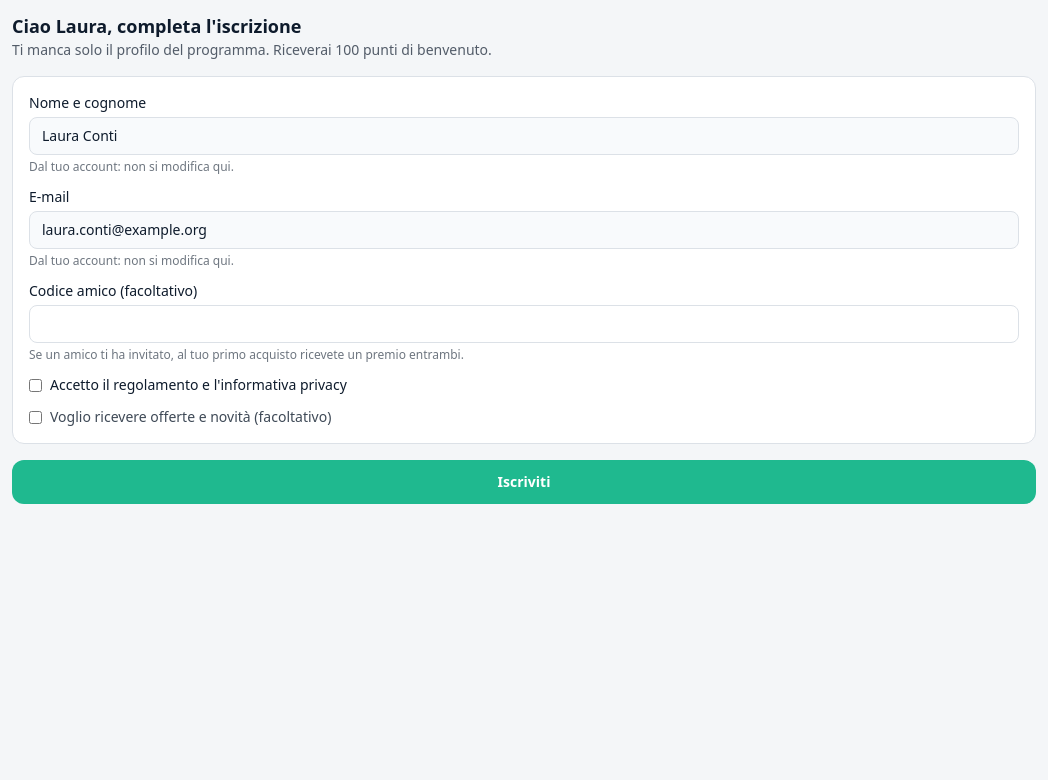
Test: PT-16 registrazione in enterprise › rifiuto del servizio (403 MEMBER_REQUIRED): messaggio in testa, il modulo resta
Click the checkbox labelled "Accetto il regolamento e l'informativa privacy" at (36, 386), box left=29, top=379, right=42, bottom=392
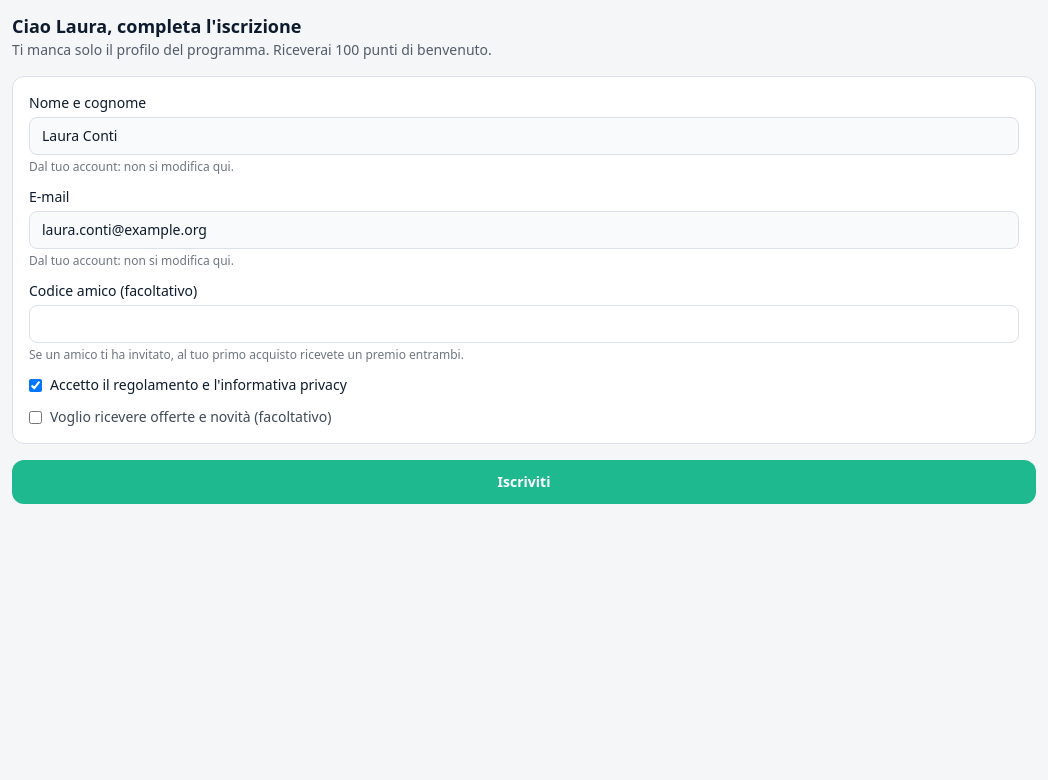
Click the button "Iscriviti" at (524, 482), box left=12, top=460, right=1036, bottom=504
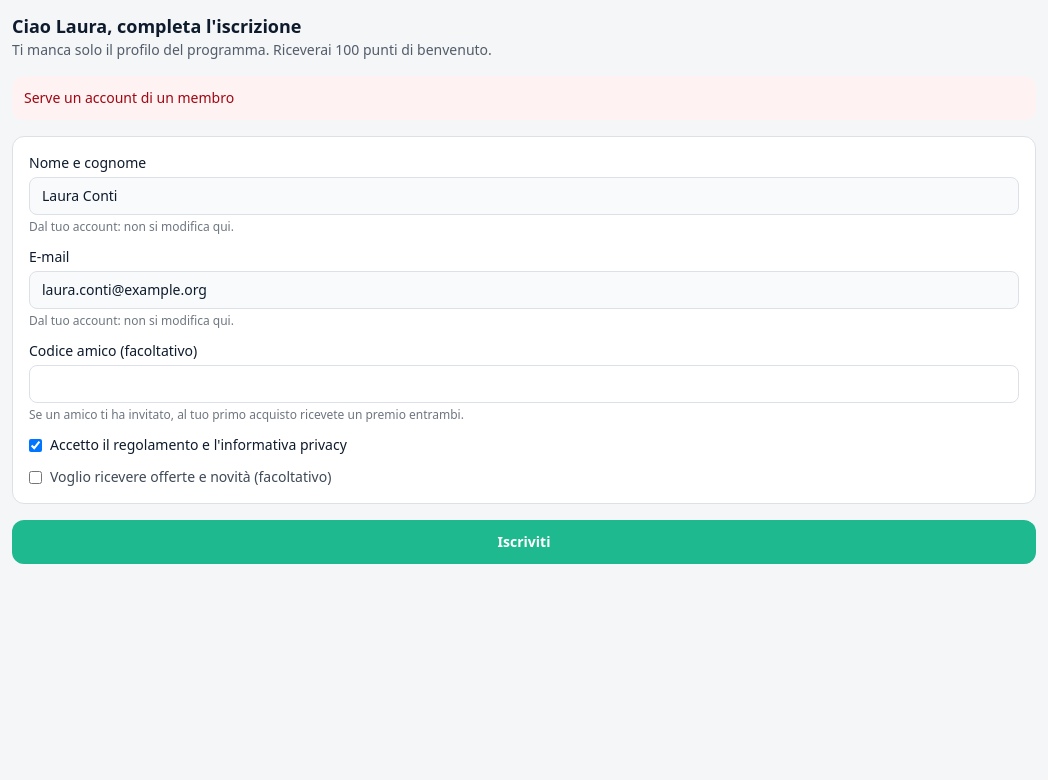
Now the message reads "Serve un account di un membro", box left=24, top=88, right=234, bottom=107
